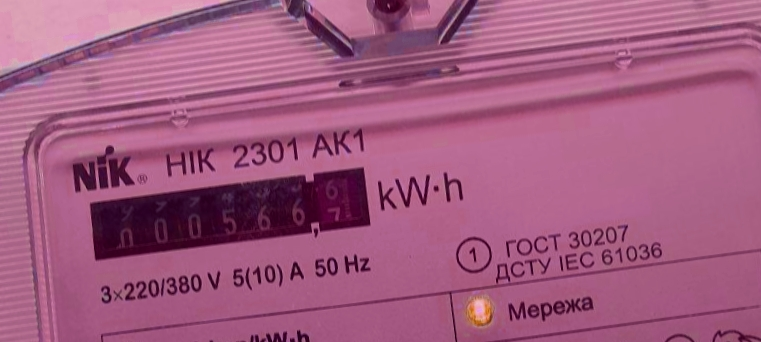0: (184, 209, 206, 240), (151, 213, 171, 244), (116, 222, 137, 248)
5: (219, 205, 241, 236)
6: (287, 193, 310, 227), (252, 201, 275, 231), (323, 176, 342, 203)
7: (326, 204, 344, 224)
9: (117, 200, 137, 222)
screen: (78, 157, 379, 271)
